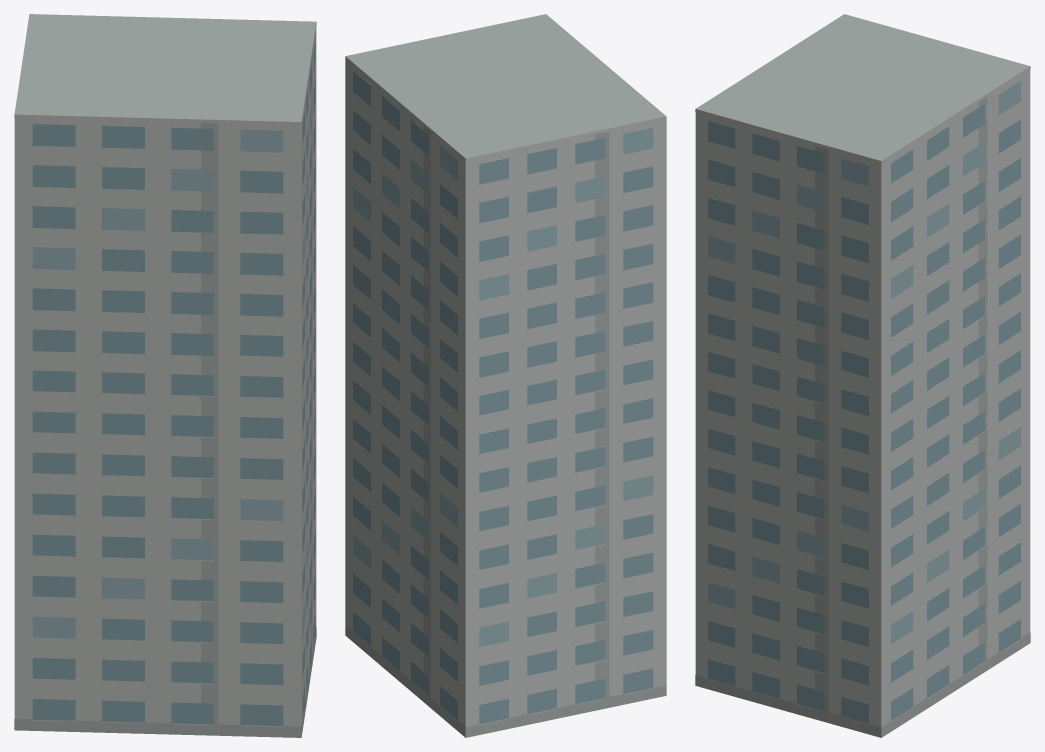
The model's file is residential-f63a432f-508f-4716-b772-2e163d3cf6cb.glb.
3 renders of one model, left to right at view 1: azimuth 30°, elevation 25°; view 2: azimuth 150°, elevation 25°; view 3: azimuth 270°, elevation 25°, orthographic. The views are drawn at different scales.
Parts seen in each view (by area): view 1: residential-f63a432f-508f-4716-b772-2e163d3cf6cb.tmp; view 2: residential-f63a432f-508f-4716-b772-2e163d3cf6cb.tmp; view 3: residential-f63a432f-508f-4716-b772-2e163d3cf6cb.tmp.
Part boxes in pixels (x1,y1,x2,y2): residential-f63a432f-508f-4716-b772-2e163d3cf6cb.tmp: [14, 14, 316, 737]; residential-f63a432f-508f-4716-b772-2e163d3cf6cb.tmp: [345, 14, 666, 737]; residential-f63a432f-508f-4716-b772-2e163d3cf6cb.tmp: [695, 14, 1030, 737].
Size of the model in its own units: 25.71 by 47 by 24.75.
